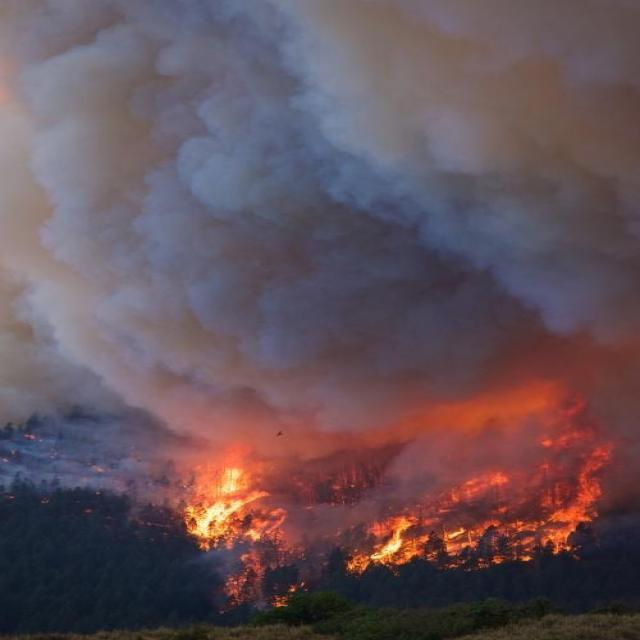Fire: (343, 429, 611, 579), (182, 463, 308, 608)
Smoke: (1, 1, 640, 585)
